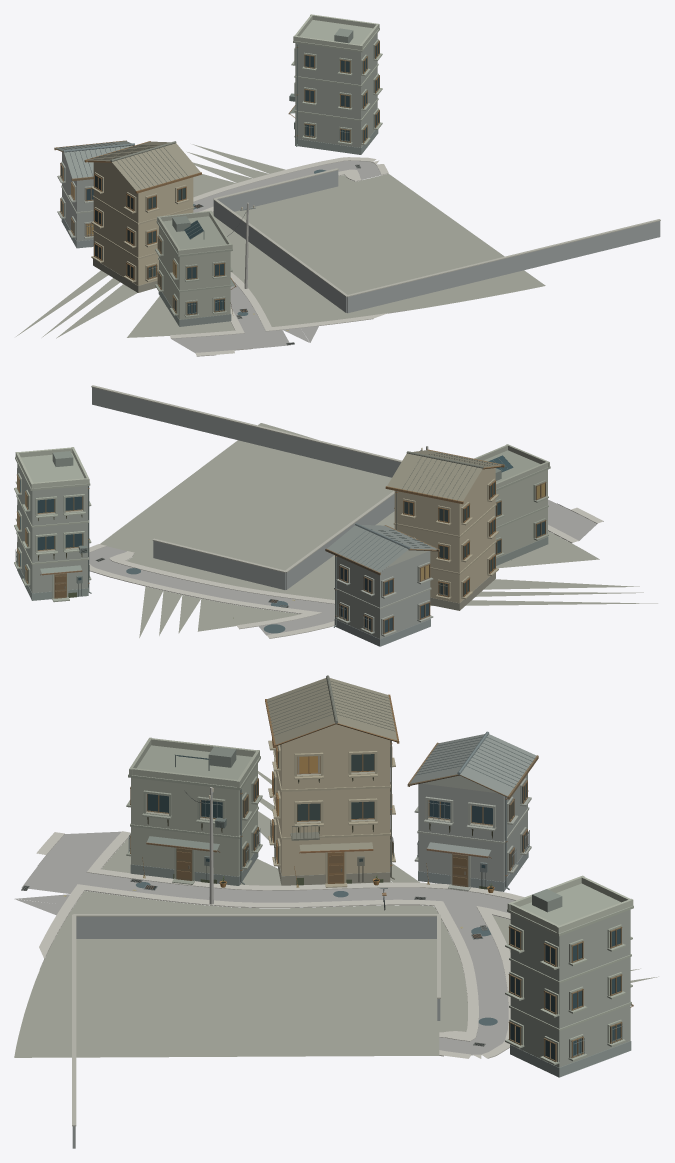
The model's file is street_4_6.glb.
The picture shows the model from 3 angles, top to bottom: view 1: azimuth 30°, elevation 25°; view 2: azimuth 150°, elevation 25°; view 3: azimuth 270°, elevation 25°; orthographic projection. The views are drawn at different scales.
Parts seen in each view (by area): view 1: ground.070, graybrick.056, plaster.057, trim.057, concrete.048, roof_metal.057, road.030, wood.057, paving.016, glass.057, metal.057; view 2: ground.070, graybrick.056, plaster.057, trim.057, concrete.048, roof_metal.057, road.030, wood.057, paving.016, glass.057, metal.057, roof_tile.043; view 3: ground.070, plaster.057, concrete.048, trim.057, road.030, graybrick.056, roof_metal.057, paving.016, wood.057, metal.057, glass.057.
Boxes of the visible parts, x1,y1,x2,y2 form: ground.070: (16,144,545,338); graybrick.056: (61,130,660,326); plaster.057: (63,14,379,319); trim.057: (57,20,660,317); concrete.048: (62,33,377,288); roof_metal.057: (55,28,353,286); road.030: (171,160,380,352); wood.057: (54,40,379,315); paving.016: (170,157,406,356); glass.057: (61,42,378,314); metal.057: (60,43,349,315); ground.070: (100,423,657,637); graybrick.056: (17,387,548,646); plaster.057: (15,444,549,603); trim.057: (14,385,550,636); concrete.048: (17,446,430,638); roof_metal.057: (40,450,502,573); road.030: (89,499,596,635); wood.057: (17,449,546,634); paving.016: (89,503,603,638); glass.057: (19,455,544,632); metal.057: (15,450,513,631); roof_tile.043: (355,451,483,549); ground.070: (14,771,658,1057); plaster.057: (129,724,633,933); concrete.048: (209,774,630,1067); trim.057: (72,740,633,1126); road.030: (14,831,514,1054); graybrick.056: (72,845,631,1148); roof_metal.057: (146,678,632,1005); paving.016: (36,831,524,1058); wood.057: (130,694,622,1062); metal.057: (128,680,622,1057); glass.057: (147,746,620,1059).
Bounding box in the file's own units: 56.47 × 11.09 × 39.02.
